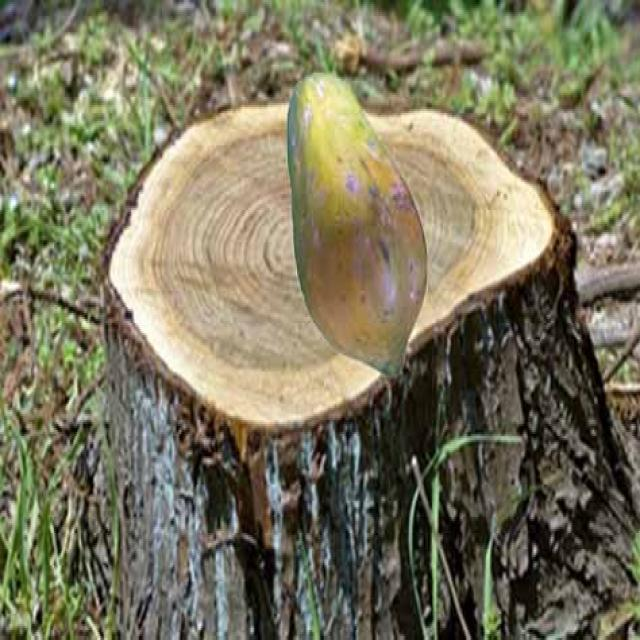Pepaya rippen: (277, 66, 435, 384)
